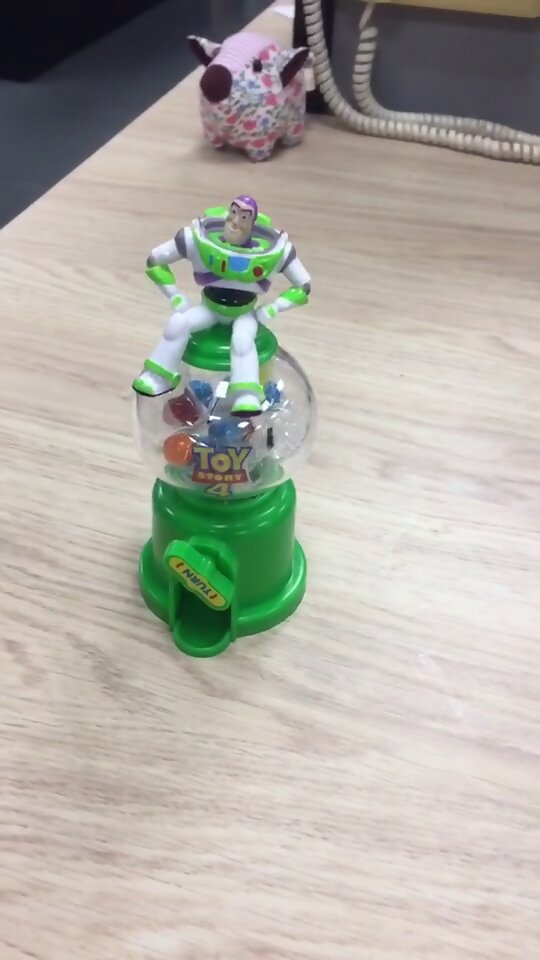buzz: (127, 190, 319, 660)
